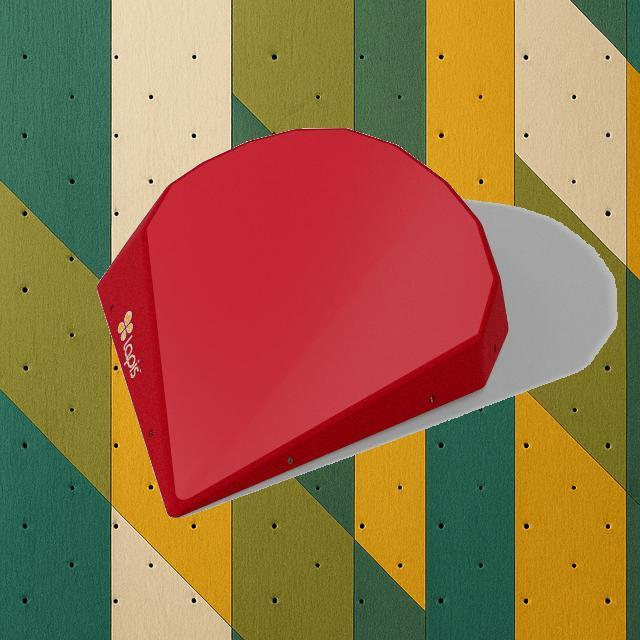Volume: (95, 124, 509, 518)
